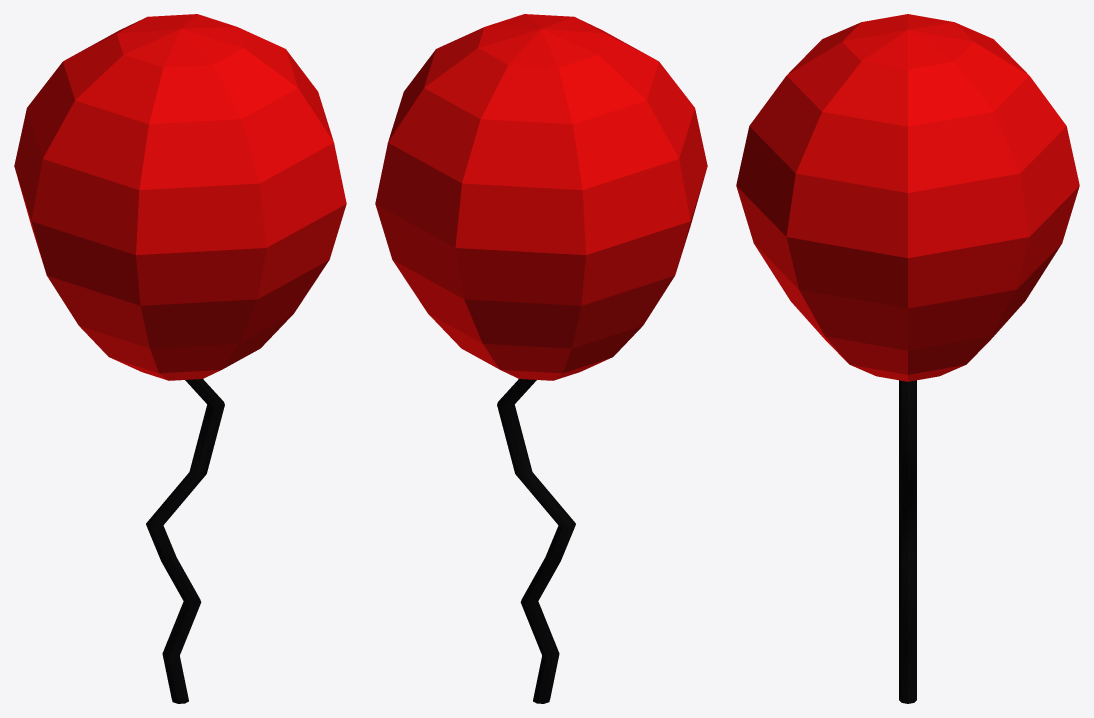
The model's file is Red ballon.fbx.
The picture shows the model from 3 angles, left to right: view 1: azimuth 30°, elevation 25°; view 2: azimuth 150°, elevation 25°; view 3: azimuth 270°, elevation 25°; orthographic projection.
Parts seen in each view (by area): view 1: pSphere1, pCylinder1; view 2: pSphere1, pCylinder1; view 3: pSphere1, pCylinder1.
Boxes of the visible parts, box(x1,y1,x2,y2) form: pSphere1: box(14, 14, 346, 380); pCylinder1: box(146, 379, 224, 703); pSphere1: box(375, 14, 707, 380); pCylinder1: box(497, 379, 575, 703); pSphere1: box(736, 14, 1079, 381); pCylinder1: box(899, 380, 916, 703).
Bounding box in the file's own units: 2 × 4.3 × 2.
